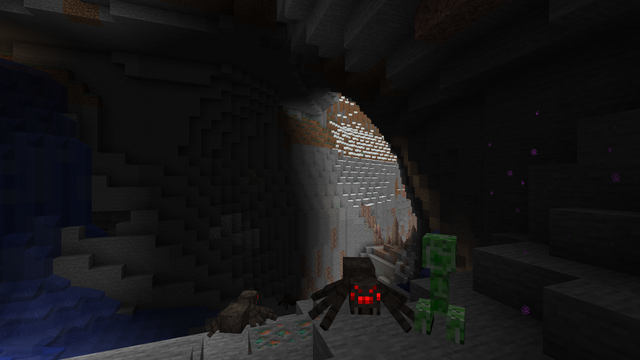araignees: (315, 253, 400, 339), (218, 285, 267, 342), (280, 290, 298, 307)
creepers: (414, 228, 467, 343)
